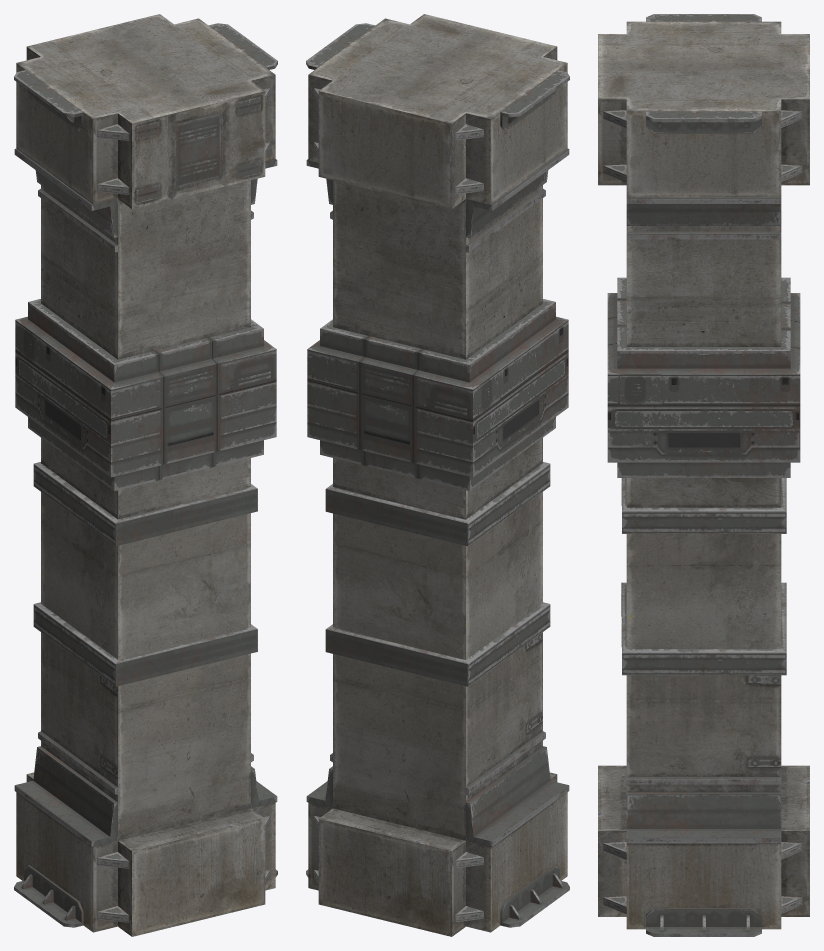
File: CP_Column_Concrete_A_02.fbx
3 renders of one model, left to right at view 1: azimuth 30°, elevation 25°; view 2: azimuth 150°, elevation 25°; view 3: azimuth 270°, elevation 25°, orthographic.
Visible parts, largest first — view 1: CP_Column_Concrete_A_02_LOD0; view 2: CP_Column_Concrete_A_02_LOD0; view 3: CP_Column_Concrete_A_02_LOD0.
Boxes of the visible parts, bbox=[...] form: CP_Column_Concrete_A_02_LOD0: bbox=[14, 14, 277, 936]; CP_Column_Concrete_A_02_LOD0: bbox=[306, 14, 569, 936]; CP_Column_Concrete_A_02_LOD0: bbox=[598, 14, 809, 936].
Size of what is drawn, in the model's own units: 110 by 400 by 93.9.
